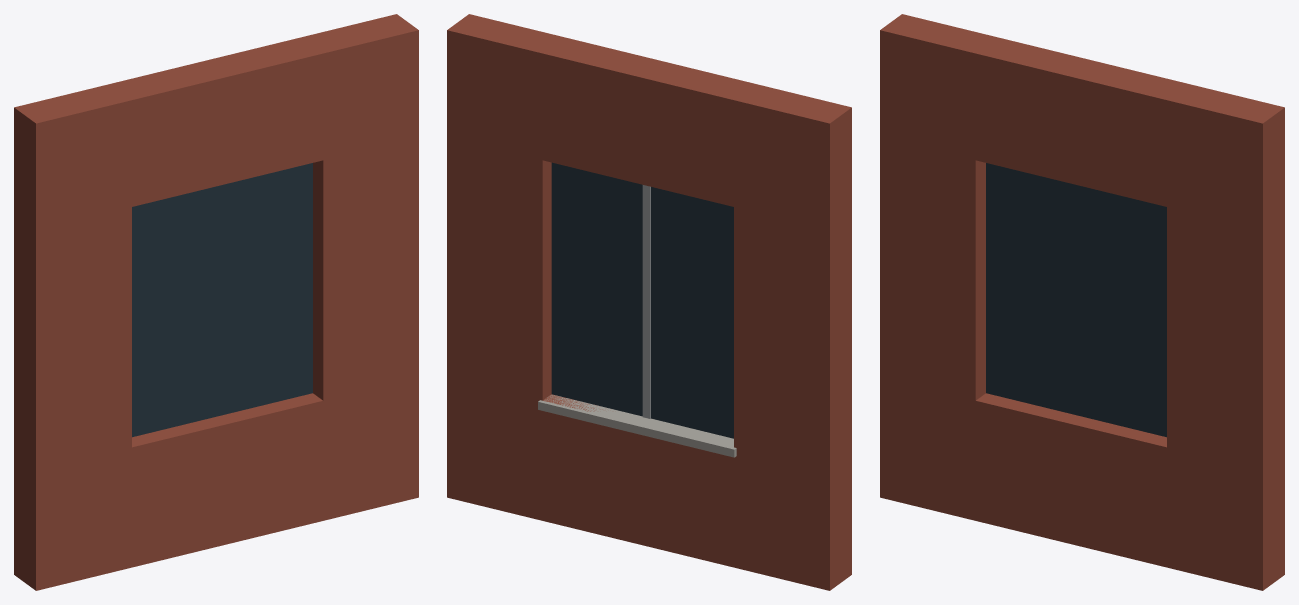
The model's file is fk_window_u35.glb.
3 renders of one model, left to right at view 1: azimuth 30°, elevation 25°; view 2: azimuth 150°, elevation 25°; view 3: azimuth 330°, elevation 25°, orthographic.
Parts seen in each view (by area): view 1: fk_window_u35-col; view 2: fk_window_u35-col; view 3: fk_window_u35-col.
Boxes of the visible parts, <box> form: fk_window_u35-col: <box>14,14,418,590</box>; fk_window_u35-col: <box>447,14,851,590</box>; fk_window_u35-col: <box>880,14,1284,590</box>.
Bounding box in the file's own units: 3 × 3.5 × 0.33.
